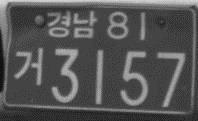1: (88, 49, 111, 105), (133, 11, 153, 39)
3: (51, 48, 80, 103)
5: (120, 49, 148, 106)
7: (155, 51, 186, 108)
8: (106, 11, 128, 39)
거: (14, 46, 43, 85)
경남_O: (47, 9, 97, 38)
